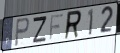1: (86, 8, 94, 37)
2: (98, 5, 116, 37)
F: (48, 12, 65, 42)
P: (14, 17, 31, 48)
R: (63, 9, 83, 41)
Z: (32, 16, 48, 45)
